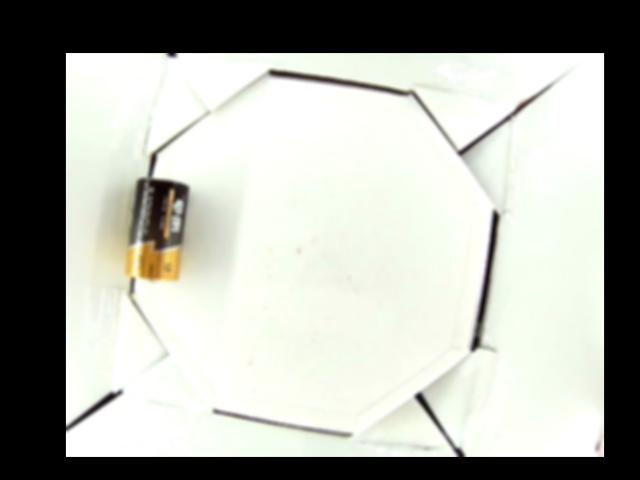Battery: (123, 176, 189, 281)
